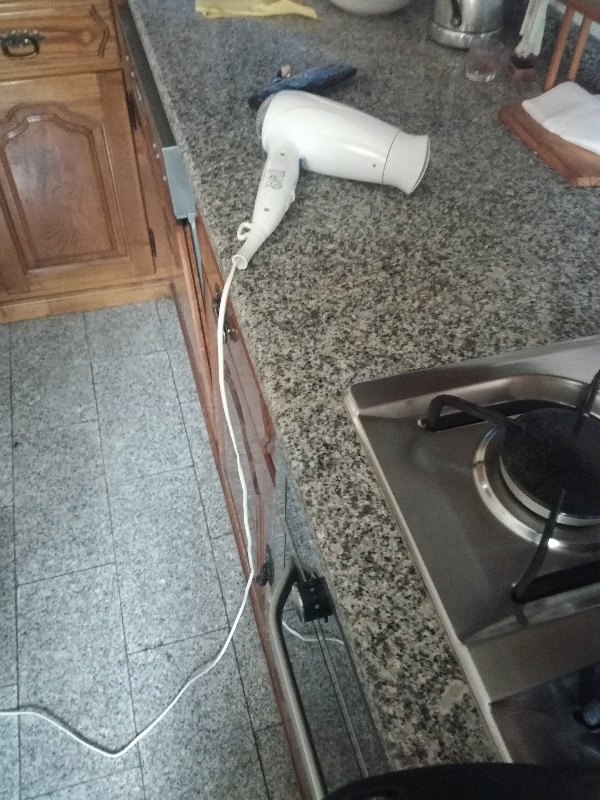hair dryer: (232, 89, 434, 270)
